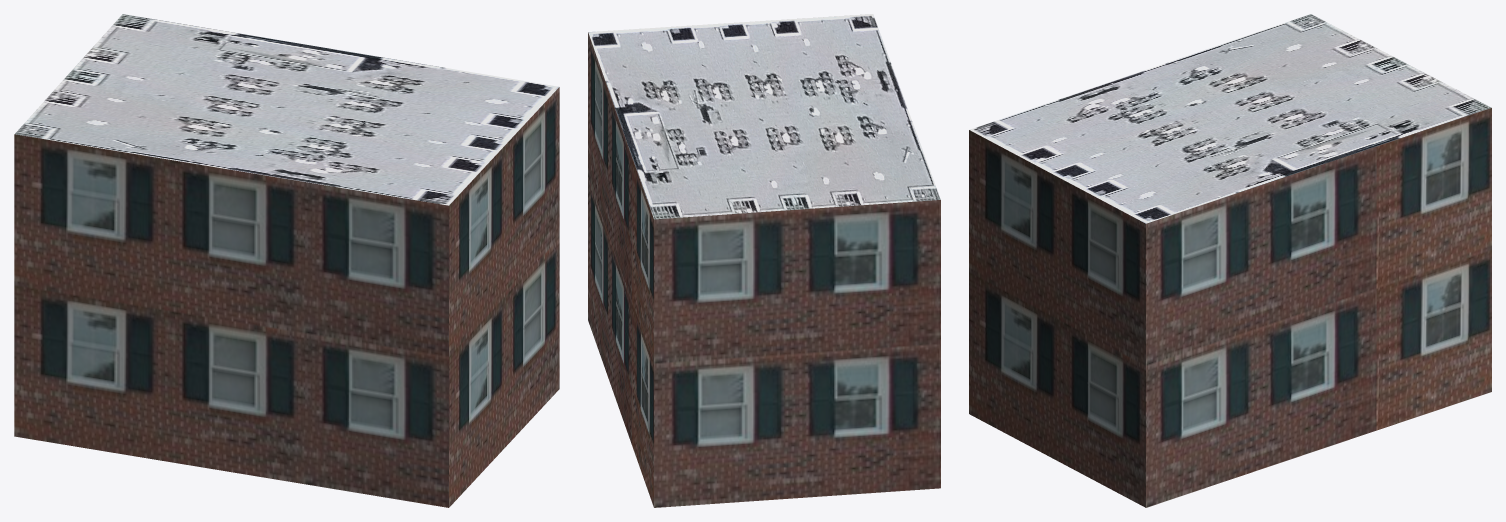
The model's file is ResTex__4537.fbx.
3 renders of one model, left to right at view 1: azimuth 30°, elevation 25°; view 2: azimuth 150°, elevation 25°; view 3: azimuth 270°, elevation 25°, orthographic. The views are drawn at different scales.
Visible parts, largest first — view 1: CityEngineMaterial_14_m, CityEngineMaterial_4_m; view 2: CityEngineMaterial_14_m, CityEngineMaterial_4_m; view 3: CityEngineMaterial_14_m, CityEngineMaterial_4_m.
Boxes of the visible parts, <box> form: CityEngineMaterial_14_m: <box>14,87,559,507</box>; CityEngineMaterial_4_m: <box>15,14,558,205</box>; CityEngineMaterial_14_m: <box>588,32,940,507</box>; CityEngineMaterial_4_m: <box>588,14,940,219</box>; CityEngineMaterial_14_m: <box>969,108,1491,507</box>; CityEngineMaterial_4_m: <box>969,14,1491,223</box>.
Bounding box in the file's own units: 9.5 × 6 × 10.
2 materials, 2 textured.
